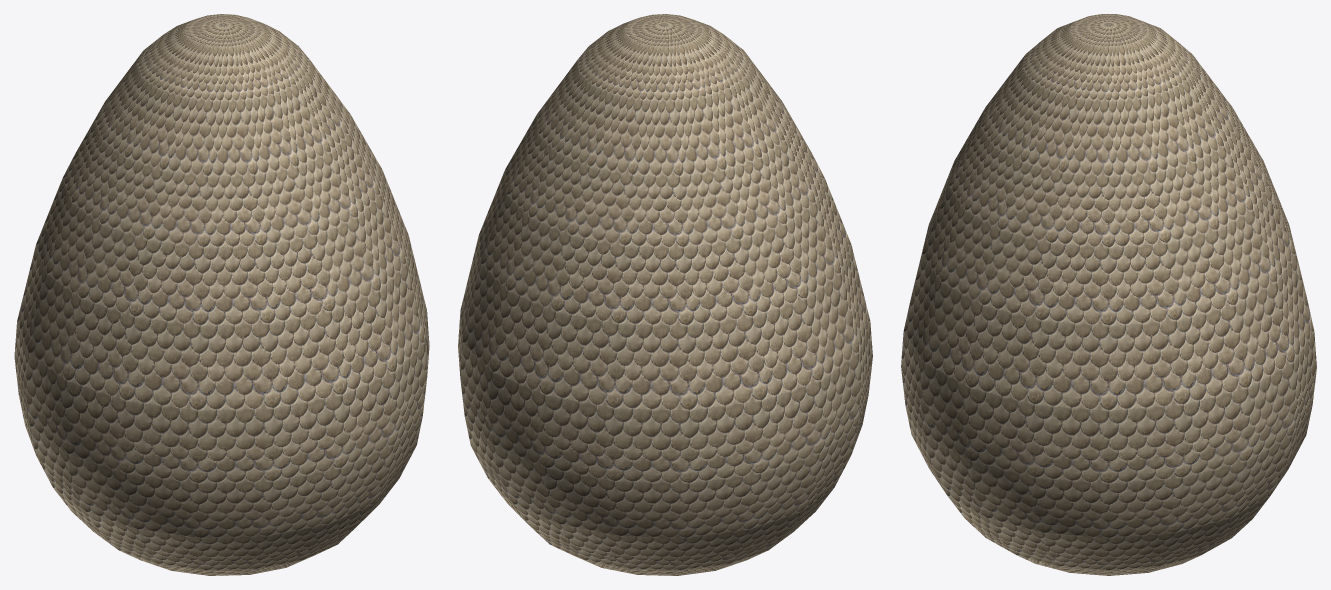
File: dragonegg.fbx
3 views of the same model, side by side, from view 1: azimuth 30°, elevation 25°; view 2: azimuth 150°, elevation 25°; view 3: azimuth 270°, elevation 25° (orthographic).
Visible parts, largest first — view 1: pSphere1; view 2: pSphere1; view 3: pSphere1.
Boxes of the visible parts, <box> form: pSphere1: <box>14,14,429,575</box>; pSphere1: <box>458,14,872,575</box>; pSphere1: <box>901,14,1316,575</box>.
Bounding box in the file's own units: 2.2 × 3.1 × 2.21.
Materials: 1 (1 with a texture image).
